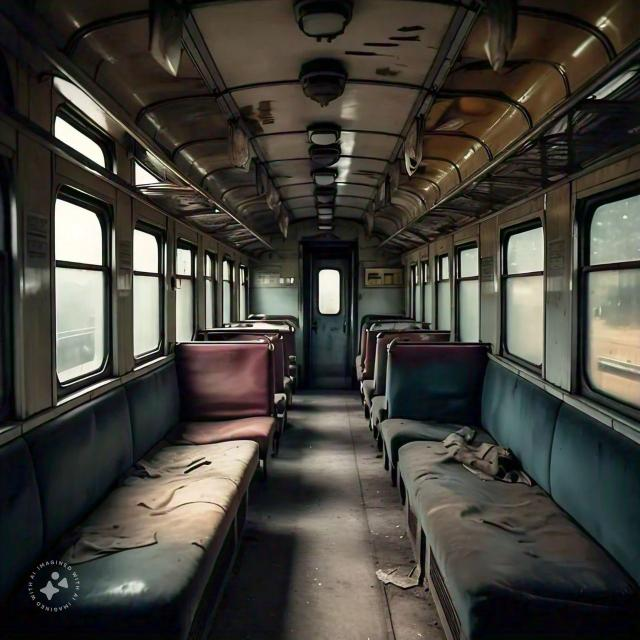Interior_Cleanliness: (18, 342, 298, 599), (378, 335, 612, 617)
Lights: (259, 0, 373, 70), (298, 123, 363, 229)
